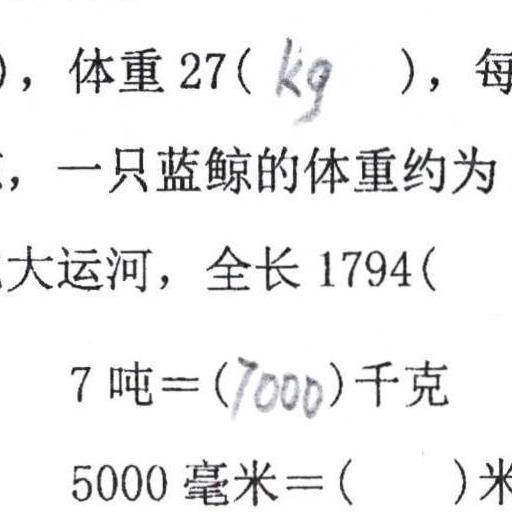ans: (227, 350, 323, 421), (269, 31, 333, 124)
